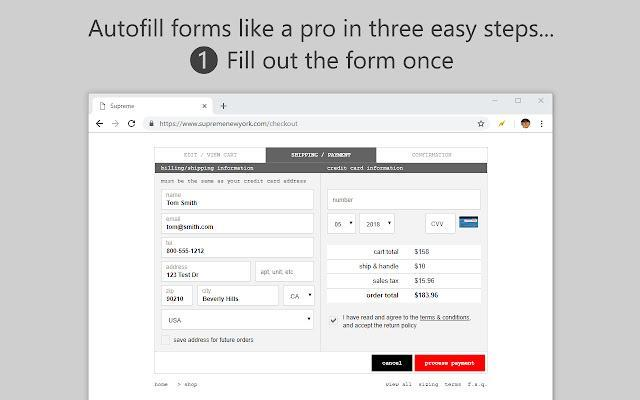button: (414, 355, 487, 373), (372, 354, 414, 373)
checkbox: (161, 336, 171, 346), (329, 317, 340, 326)
dropdown: (162, 310, 315, 331), (360, 213, 396, 235), (327, 213, 357, 236), (283, 285, 315, 306)
input: (328, 189, 483, 212), (161, 237, 315, 260), (160, 213, 316, 235), (161, 190, 316, 211), (161, 261, 253, 284), (197, 285, 281, 307), (255, 260, 315, 283), (425, 213, 458, 235), (161, 287, 195, 308)
label: (342, 314, 472, 331), (174, 338, 255, 344)
